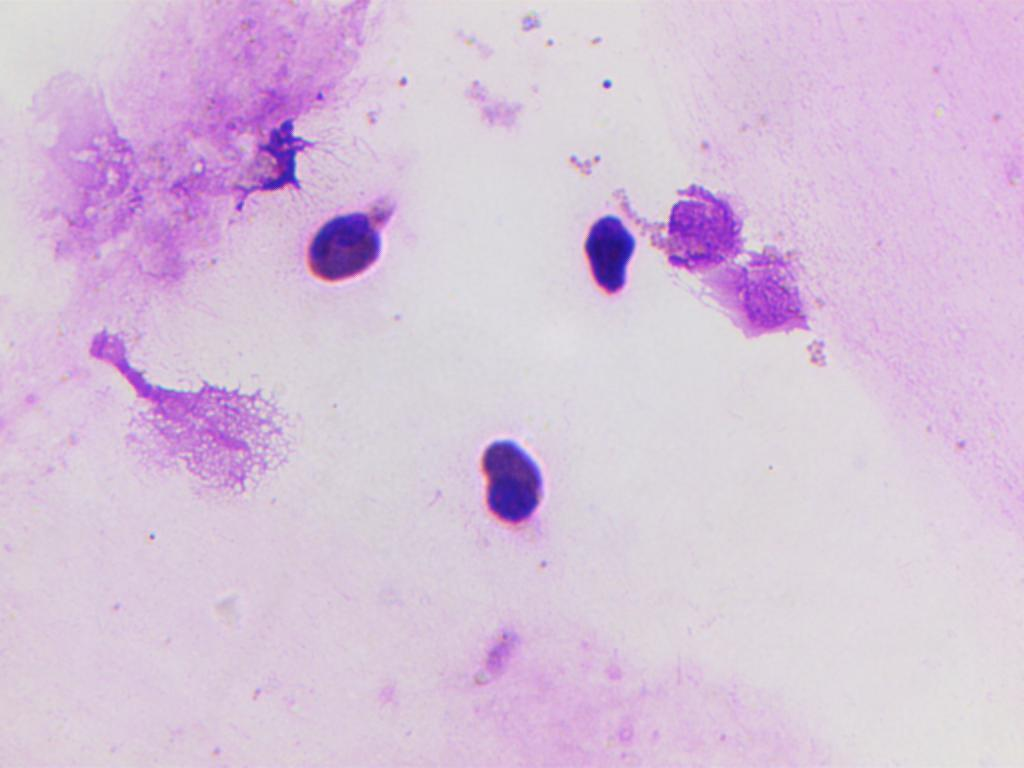neutrophil: (306, 188, 408, 289), (469, 424, 553, 537), (570, 201, 644, 302)
